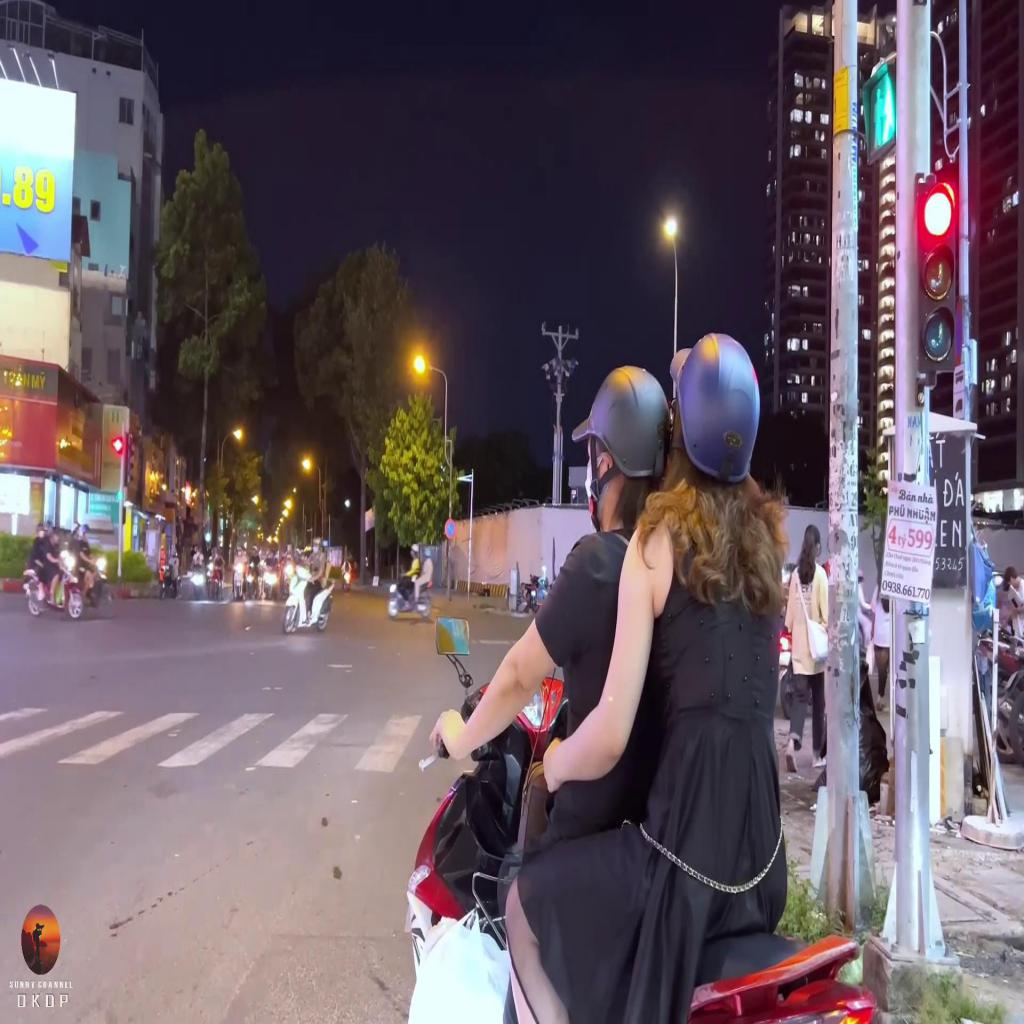cam_do_xe: (444, 516, 457, 539)
